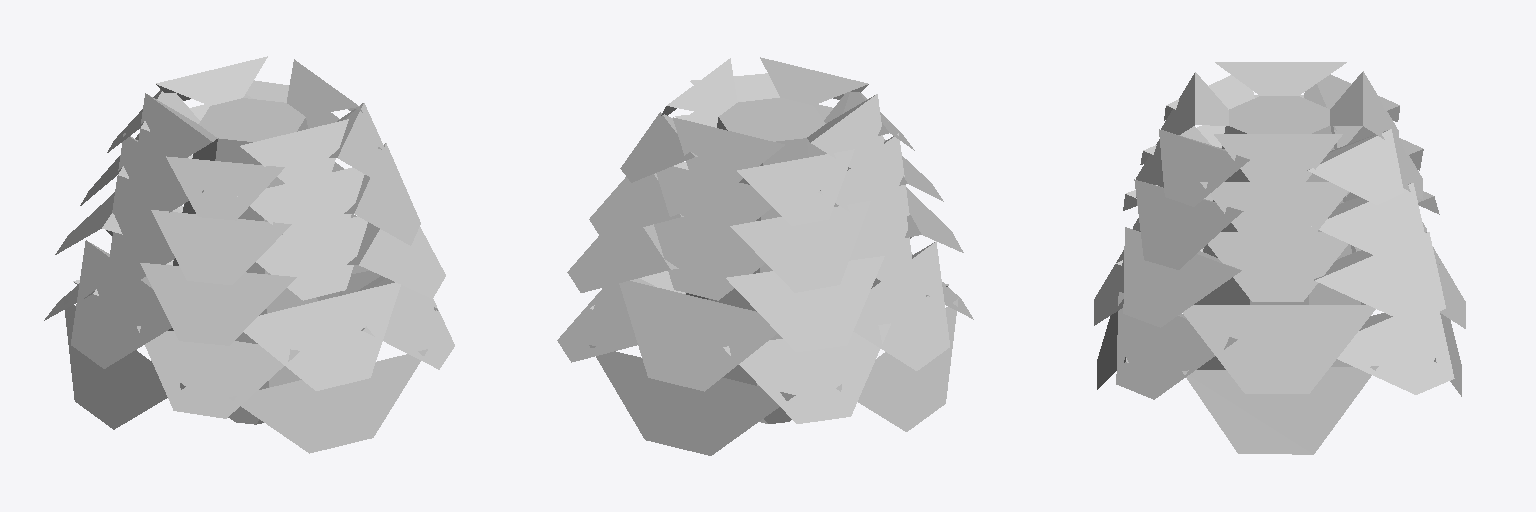
File: pinecone01.obj
3 views of the same model, side by side, from view 1: azimuth 30°, elevation 25°; view 2: azimuth 150°, elevation 25°; view 3: azimuth 270°, elevation 25° (orthographic).
Visible parts, largest first — view 1: Plane.001_Plane.002; view 2: Plane.001_Plane.002; view 3: Plane.001_Plane.002.
Part boxes in pixels (left/top/right/bottom): Plane.001_Plane.002: left=44, top=56, right=454, bottom=453; Plane.001_Plane.002: left=557, top=57, right=973, bottom=455; Plane.001_Plane.002: left=1094, top=62, right=1465, bottom=454.
Bounding box in the file's own units: 0.0875 × 0.0784 × 0.0842.